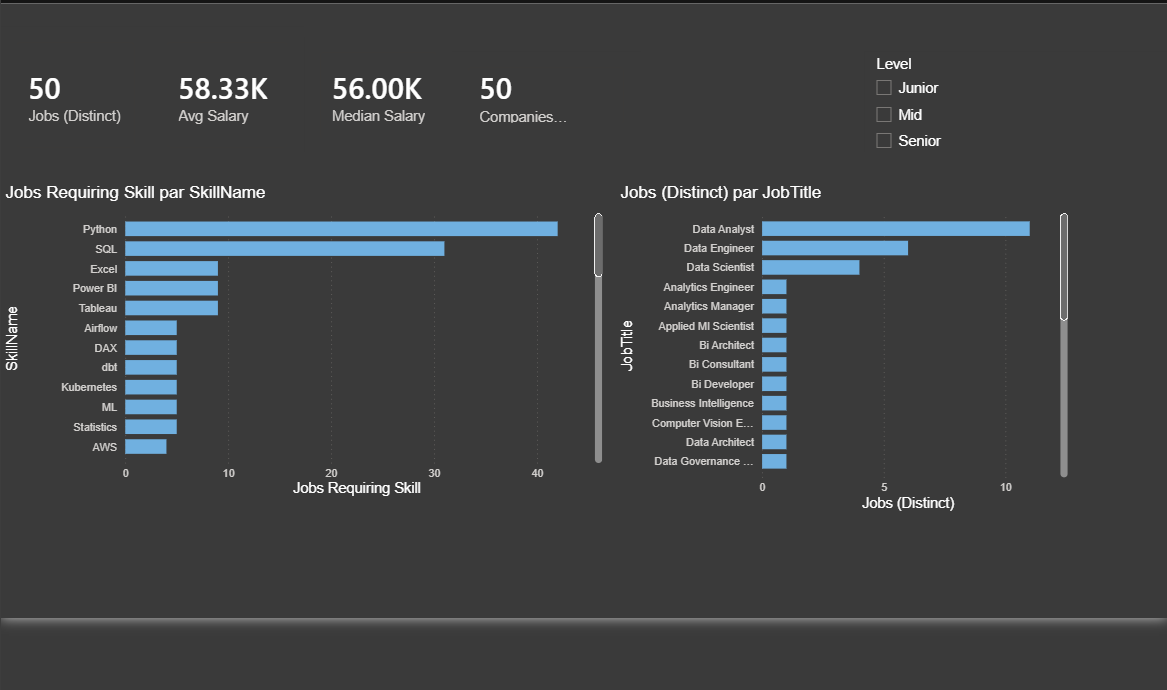

The dashboard page shown, as its layout file describes it:
{"tool":"powerbi","page":{"name":"01-Overview","canvas":[1280,720],"ordinal":0},"visuals":[{"type":"slicer","fields":{"Values":["DimExperience.Level"]},"box":[948,97.8,331.7,130.9],"z":0},{"type":"cardVisual","fields":{"Data":["Measures (2).Jobs (Distinct)"]},"box":[0,69.8,164.1,150.1],"z":1},{"type":"barChart","fields":{"Category":["DimSkills.SkillName"],"Y":["Measures (2).Jobs Requiring Skill"]},"box":[0,240.9,665.2,349.2],"z":2},{"type":"cardVisual","fields":{"Data":["Measures (2).Avg Salary"]},"box":[164.1,69.8,167.6,150.1],"z":3},{"type":"cardVisual","fields":{"Data":["Measures (2).Median Salary"]},"box":[333.5,80.3,162.4,129.2],"z":4},{"type":"cardVisual","fields":{"Data":["Measures (2).Companies (Distinct)"]},"box":[495.8,97.8,206,96],"z":5},{"type":"barChart","fields":{"Category":["JobsData.JobTitle"],"Y":["Measures (2).Jobs (Distinct)"]},"box":[675.7,240.9,501.1,364.9],"z":6}]}

Visuals, with their boxes on the page's 1280x720 design canvas (x1, y1, x2, y2). These are canvas units, not pixel positions in the 1167x690 screenshot, which may show the page scaled, cropped or inside an application window:
slicer - DimExperience.Level: select_region(948, 98, 1280, 229)
cardVisual - Measures (2).Jobs (Distinct): select_region(0, 70, 164, 220)
barChart - DimSkills.SkillName x Measures (2).Jobs Requiring Skill: select_region(0, 241, 665, 590)
cardVisual - Measures (2).Avg Salary: select_region(164, 70, 332, 220)
cardVisual - Measures (2).Median Salary: select_region(334, 80, 496, 210)
cardVisual - Measures (2).Companies (Distinct): select_region(496, 98, 702, 194)
barChart - JobsData.JobTitle x Measures (2).Jobs (Distinct): select_region(676, 241, 1177, 606)
